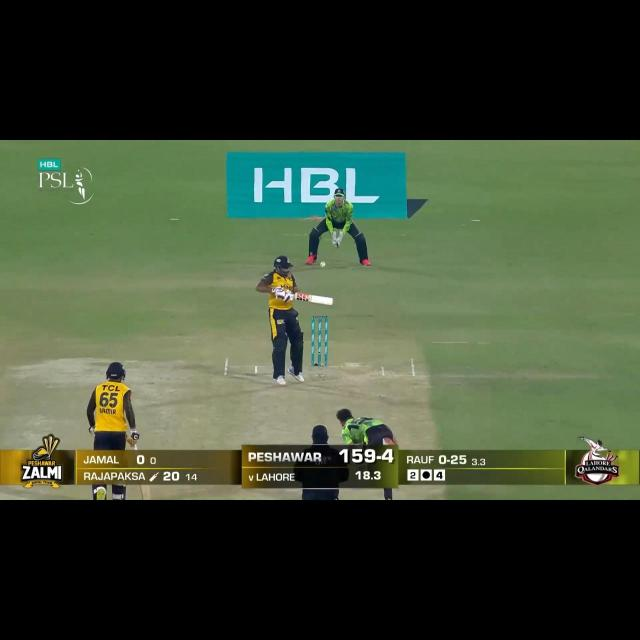bat: (294, 291, 336, 307)
toe: (140, 486, 151, 500), (326, 295, 334, 306)
